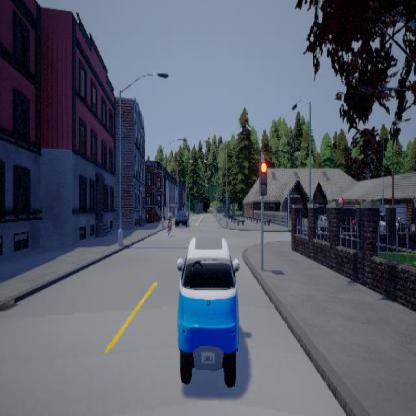bike: (165, 206, 172, 235)
traffic_light_red: (258, 154, 266, 202)
vehicle: (176, 236, 238, 386), (174, 210, 189, 227)
